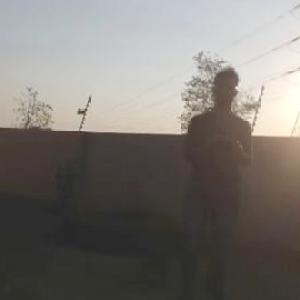follow: (169, 62, 255, 299)
